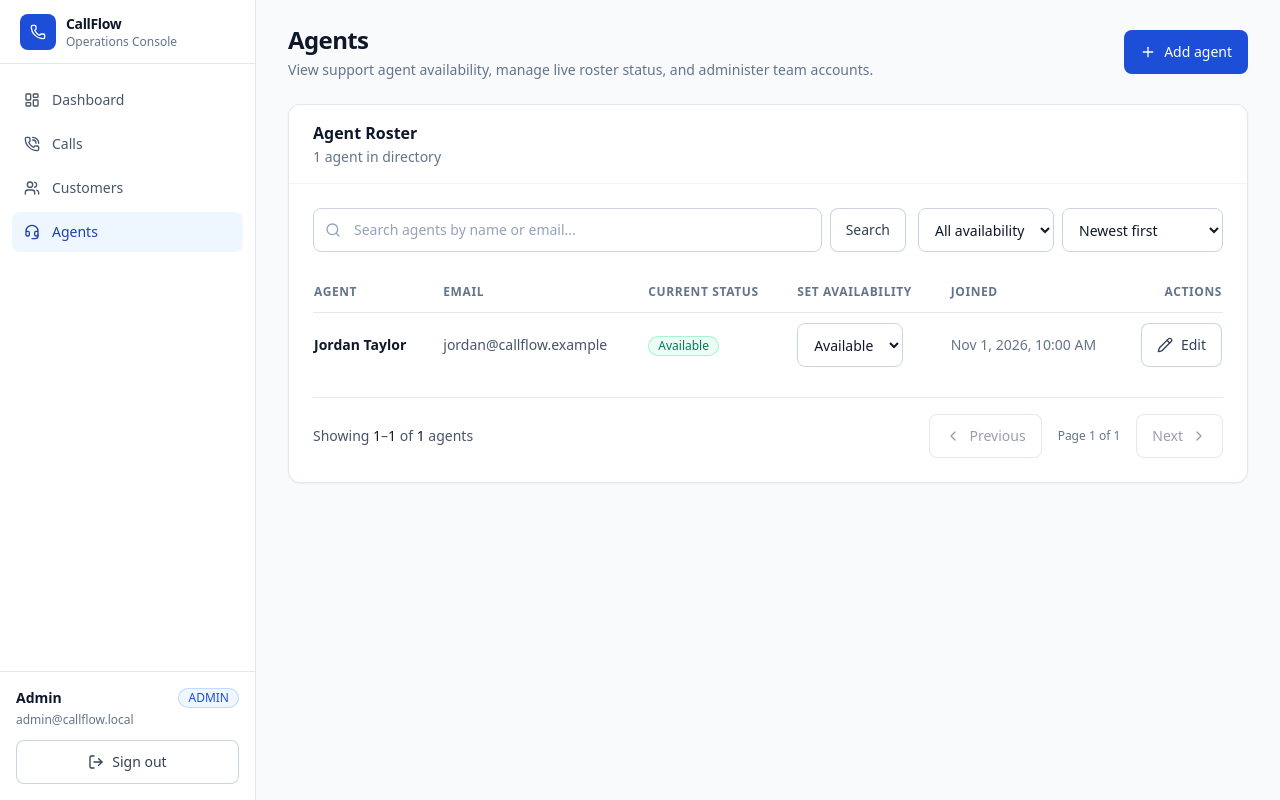
Test case: AgentsPage › allows ADMIN to create agents and update availability status
The width and height of the screenshot is (1280, 800).
Expected: the text "Jordan Taylor" is shown, 313,312 -> 427,377
Select "Busy" in the dropdown named "Availability for Jordan Taylor" at (850, 345), box 797,323 -> 903,367
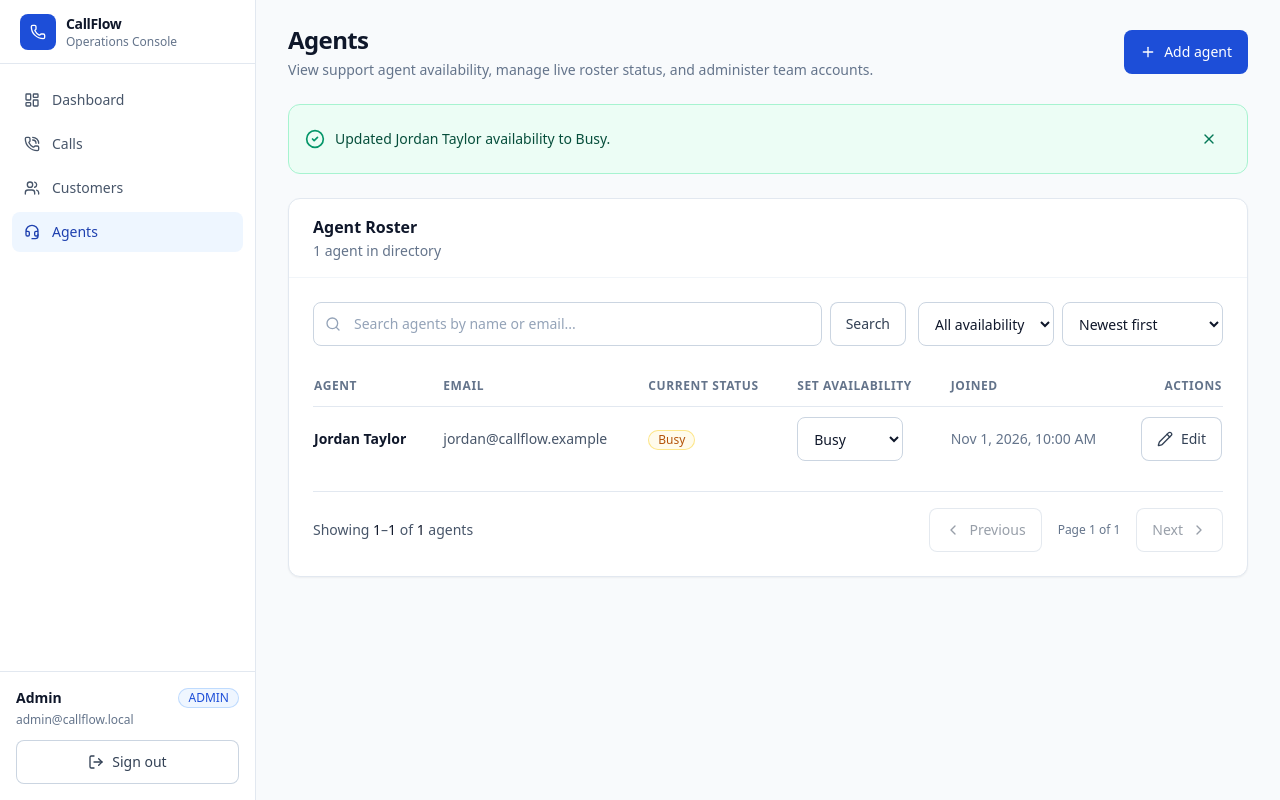
Expected: the message reads "Updated Jordan Taylor availability to Busy.", 335,129 -> 610,148
Click the button "Add agent" at (1186, 52), box 1124,30 -> 1248,74
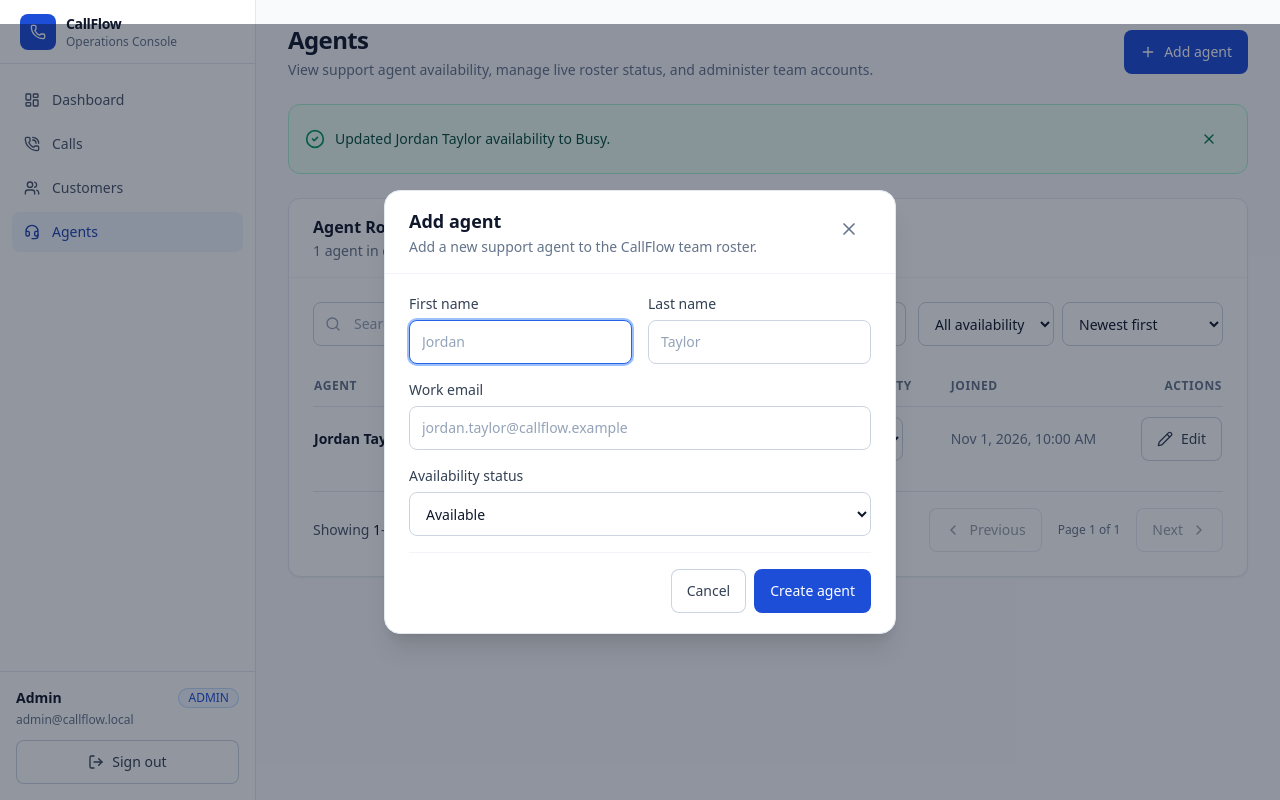
Type "Sam" into the field labelled "First name" at (520, 342), box 409,320 -> 632,364
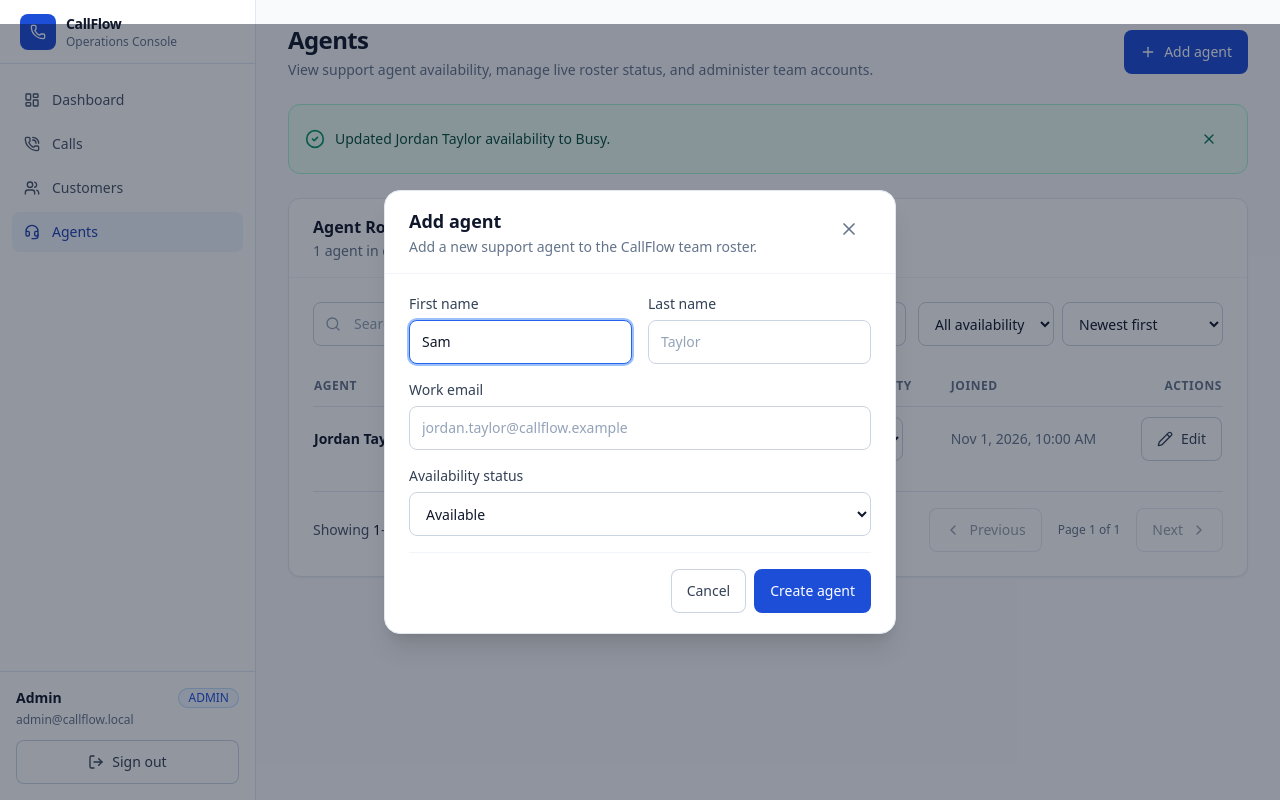
Type "Rivera" into the field labelled "Last name" at (760, 342), box 648,320 -> 871,364
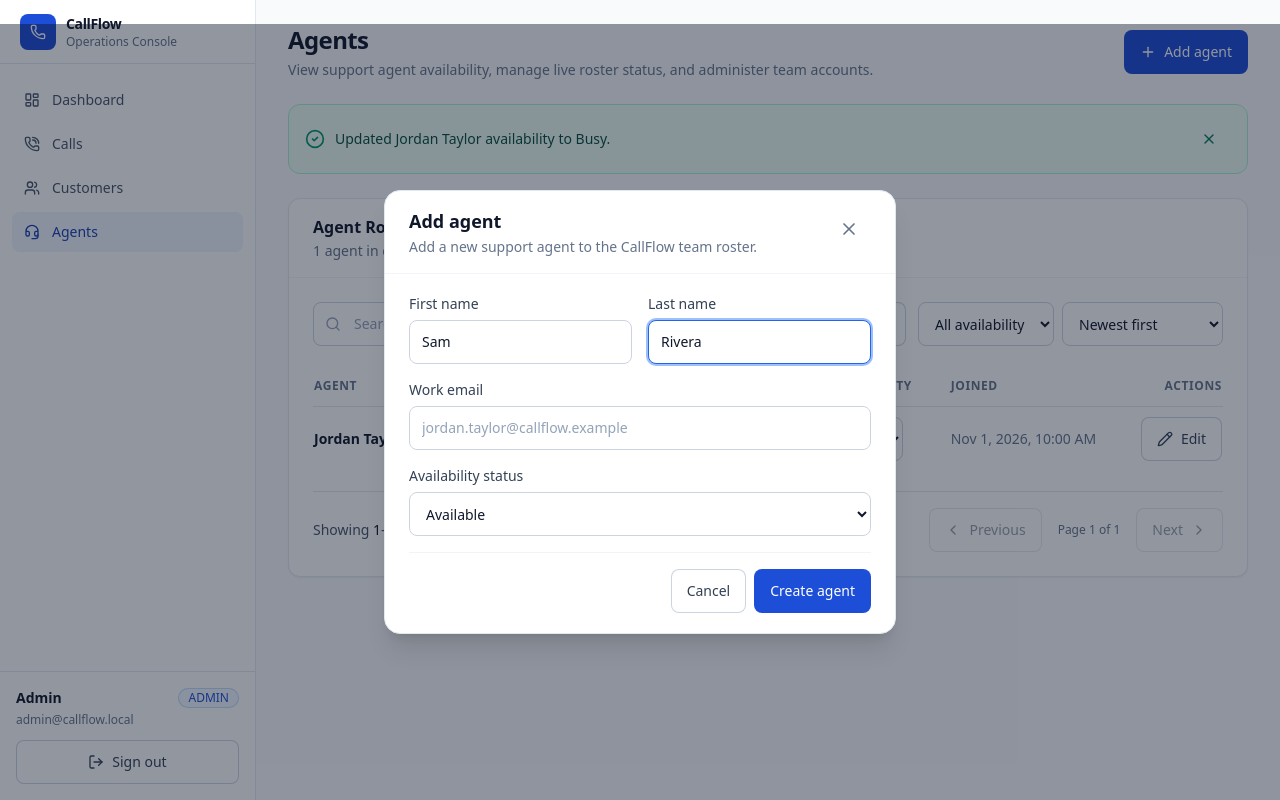
Type "sam.rivera@callflow.example" into the field labelled "Work email" at (640, 428), box 409,406 -> 871,450
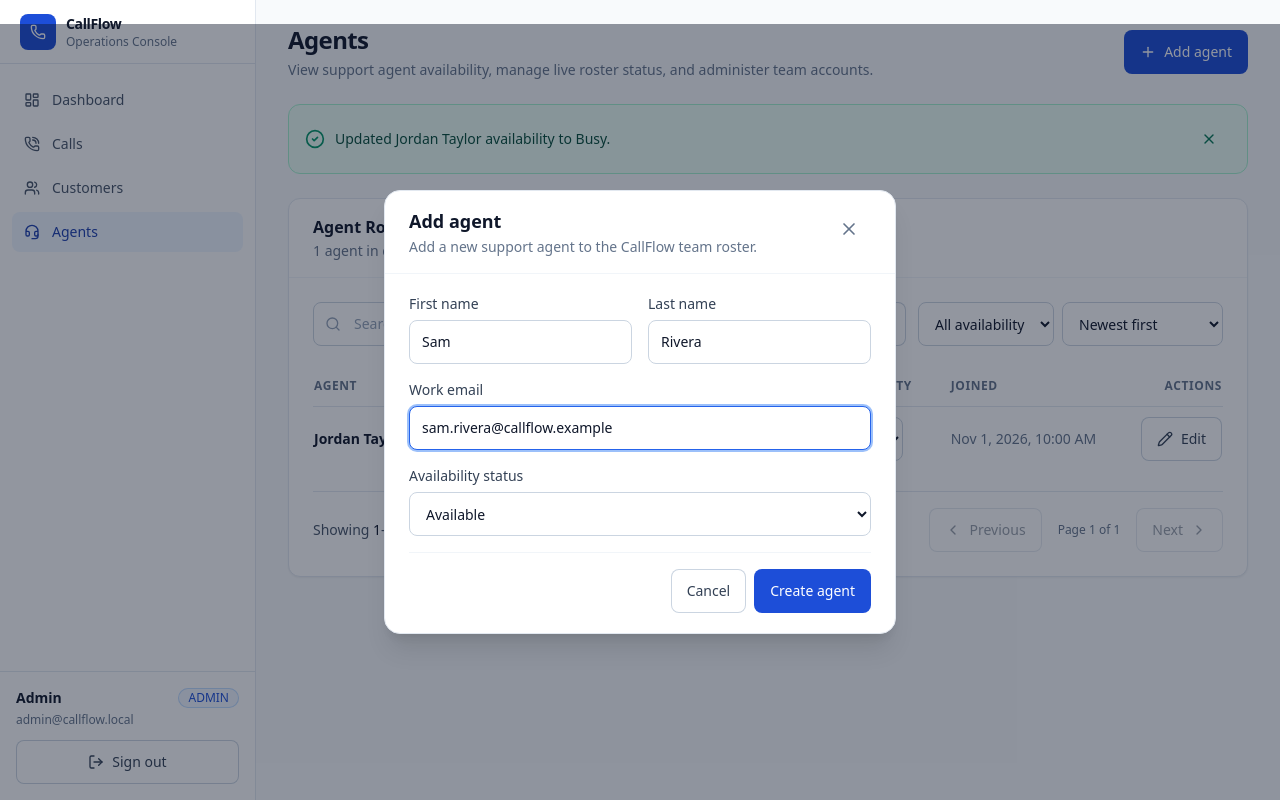
Click the button "Create agent" at (813, 591), box 754,569 -> 871,613
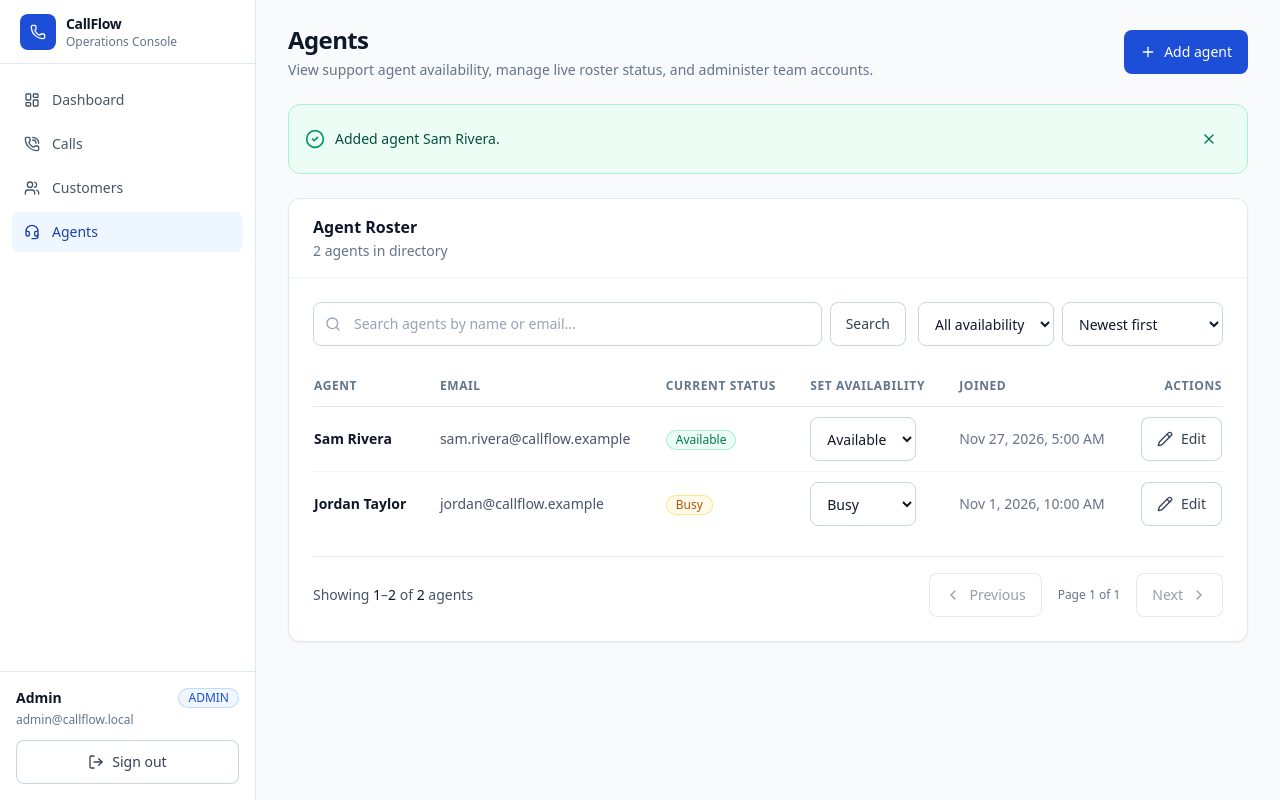
Expected: the message reads "Added agent Sam Rivera.", 335,129 -> 500,148
Expected: the text "Sam Rivera" is shown, 313,406 -> 424,472
